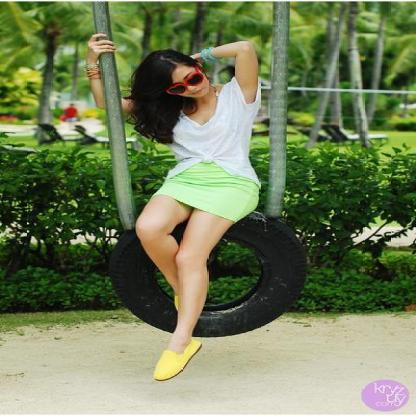shirt: (173, 77, 258, 180)
shoe: (154, 341, 200, 379)
skirt: (153, 159, 260, 222)
